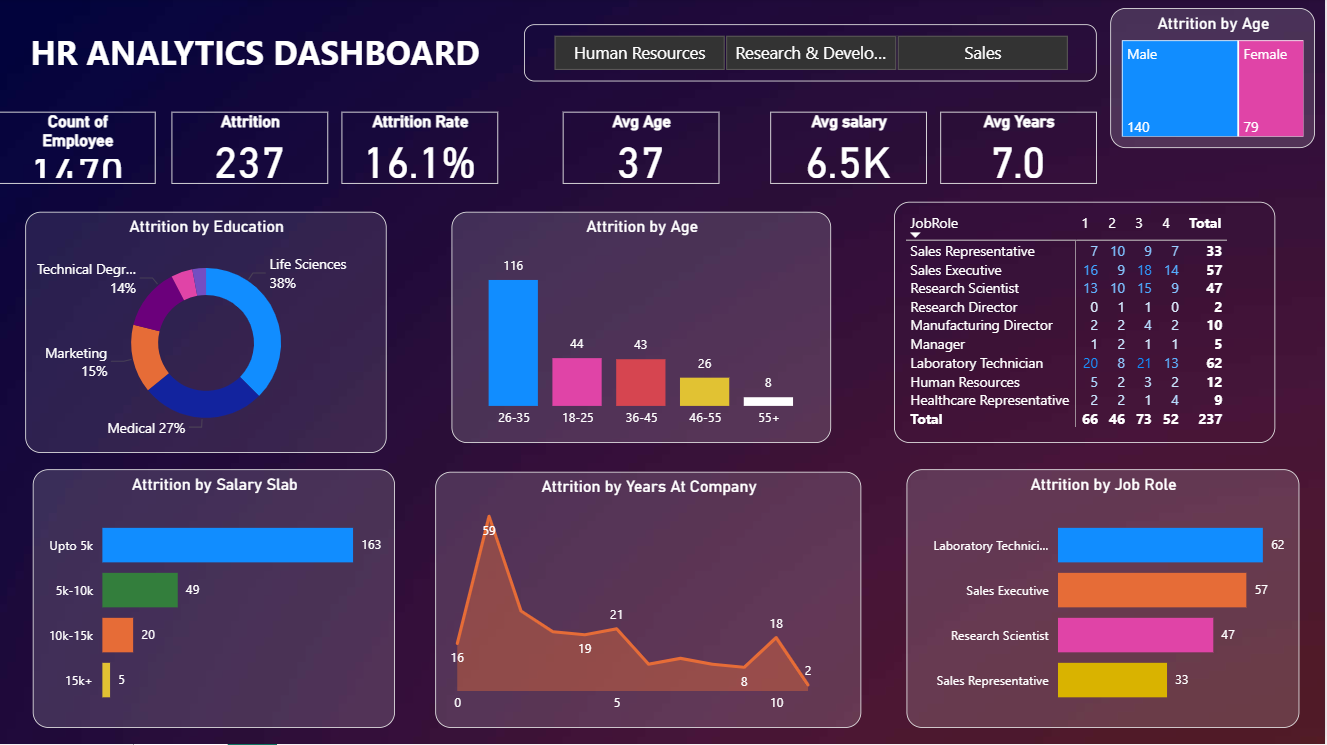

Layout of this report page (visuals, bound fields, positions):
{"tool":"powerbi","page":{"name":"Page 1","canvas":[1280,720],"ordinal":0},"visuals":[{"type":"card","title":"Count of Employee","fields":{"Values":["CountNonNull(Sheet1.EmpID)"]},"box":[0,109.8,150.8,70],"z":0},{"type":"card","title":"Attrition","fields":{"Values":["Sum(Sheet1.AttritionCount)"]},"box":[166.5,109.8,150.8,70],"z":1000},{"type":"card","title":"Attrition Rate","fields":{"Values":["Sheet1.AttritionRate"]},"box":[330.6,109.8,150.8,70],"z":2000},{"type":"card","title":"Avg Age","fields":{"Values":["Avg(Sheet1.Age)"]},"box":[544.1,109.8,150.8,70],"z":3000},{"type":"card","title":"Avg salary","fields":{"Values":["Avg(Sheet1.MonthlyIncome)"]},"box":[744.4,109.8,150.8,70],"z":4000},{"type":"card","title":"Avg Years","fields":{"Values":["Avg(Sheet1.YearsAtCompany)"]},"box":[908.4,109.8,150.8,70],"z":5000},{"type":"donutChart","title":"Attrition by Education","fields":{"Category":["Sheet1.EducationField"],"Y":["Sum(Sheet1.AttritionCount)"]},"box":[25.3,206.3,348.7,232.8],"z":6000},{"type":"columnChart","title":"Attrition by Age ","fields":{"Category":["Sheet1.AgeGroup"],"Y":["Sum(Sheet1.AttritionCount)"]},"box":[436.7,206.3,366.8,223.2],"z":7000},{"type":"pivotTable","fields":{"Rows":["Sheet1.JobRole"],"Columns":["Sheet1.JobSatisfaction"],"Values":["Sum(Sheet1.AttritionCount)"]},"box":[863.8,196.6,368,232.8],"z":8000},{"type":"barChart","title":"Attrition by Salary Slab ","fields":{"Category":["Sheet1.SalarySlab"],"Y":["Sum(Sheet1.AttritionCount)"]},"box":[32.6,454.8,349.9,249.7],"z":9000},{"type":"barChart","title":"Attrition by Job Role ","fields":{"Y":["Sum(Sheet1.AttritionCount)"],"Category":["Sheet1.JobRole"]},"box":[875.9,454.8,378.8,249.7],"z":10000},{"type":"areaChart","title":"Attrition by Years At Company","fields":{"Category":["Sheet1.YearsAtCompany"],"Y":["Sum(Sheet1.AttritionCount)"]},"box":[421,457.2,411.4,247.3],"z":11000},{"type":"treemap","title":"Attrition by Age ","fields":{"Group":["Sheet1.Gender"],"Values":["Sum(Sheet1.AttritionCount)"]},"box":[1072.5,9.7,197.9,135.1],"z":12000},{"type":"slicer","fields":{"Values":["Sheet1.Department"]},"box":[506.7,25.3,552.5,55.5],"z":13000},{"type":"textbox","box":[25.3,25.3,481.4,56.7],"z":14000}]}

Visuals, with their boxes in screenshot pixels (x1, y1, x2, y2), scaled from the page's 1280x720 canvas onto the 1327x745 screenshot:
"Count of Employee" card: bbox=[0, 114, 156, 186]
"Attrition" card: bbox=[173, 114, 329, 186]
"Attrition Rate" card: bbox=[343, 114, 499, 186]
"Avg Age" card: bbox=[564, 114, 720, 186]
"Avg salary" card: bbox=[772, 114, 928, 186]
"Avg Years" card: bbox=[942, 114, 1098, 186]
"Attrition by Education" donutChart: bbox=[26, 213, 388, 454]
"Attrition by Age " columnChart: bbox=[453, 213, 833, 444]
pivotTable - Sheet1.JobRole x Sheet1.JobSatisfaction: bbox=[896, 203, 1277, 444]
"Attrition by Salary Slab " barChart: bbox=[34, 471, 397, 729]
"Attrition by Job Role " barChart: bbox=[908, 471, 1301, 729]
"Attrition by Years At Company" areaChart: bbox=[436, 473, 863, 729]
"Attrition by Age " treemap: bbox=[1112, 10, 1317, 150]
slicer - Sheet1.Department: bbox=[525, 26, 1098, 84]
textbox: bbox=[26, 26, 525, 85]
